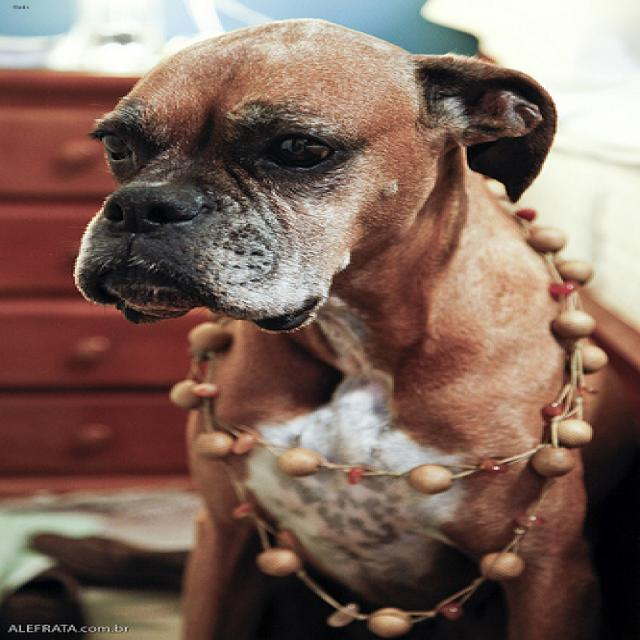dog-boxer: (8, 10, 636, 637)
